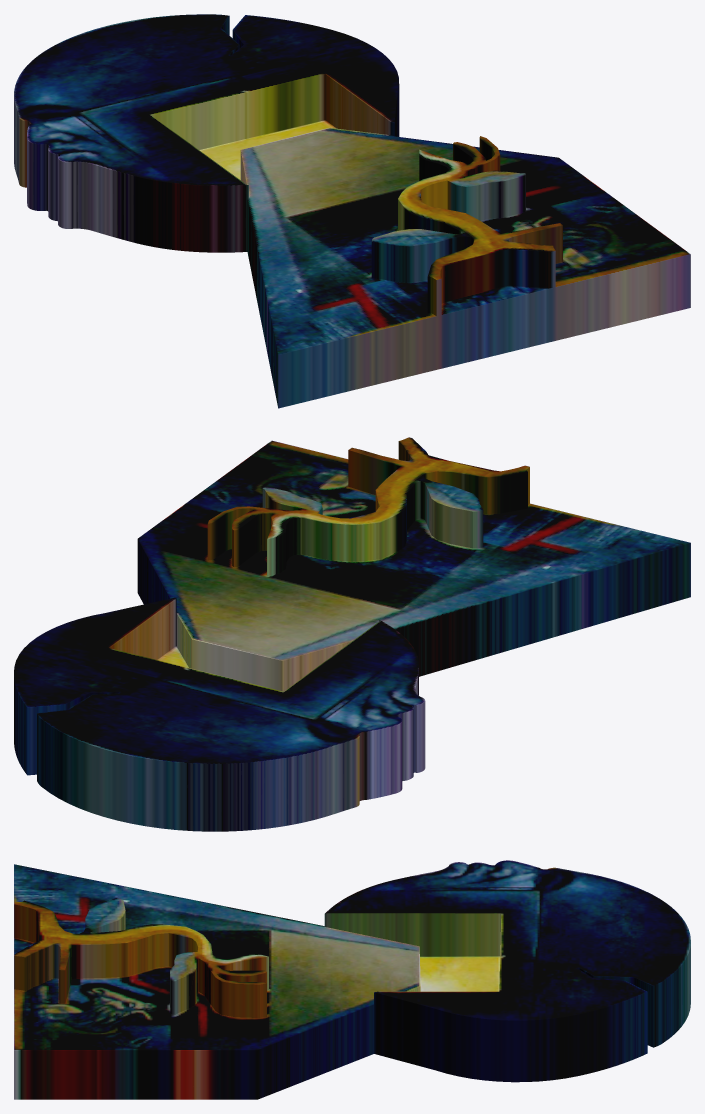
The model's file is Muro apocalipsis 6.dae.
3 renders of one model, top to bottom at view 1: azimuth 30°, elevation 25°; view 2: azimuth 150°, elevation 25°; view 3: azimuth 270°, elevation 25°, orthographic. The views are drawn at different scales.
Parts seen in each view (by area): view 1: SketchUp; view 2: SketchUp; view 3: SketchUp.
Part boxes in pixels (bbox=[...]): SketchUp: bbox=[14, 14, 690, 408]; SketchUp: bbox=[14, 437, 690, 831]; SketchUp: bbox=[14, 860, 690, 1099].
Size of the model in its own units: 32.81 by 50.47 by 6.81.
2 materials, 1 textured.
